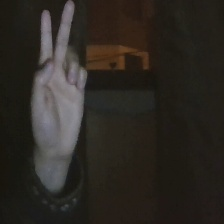K: (22, 1, 96, 168)
